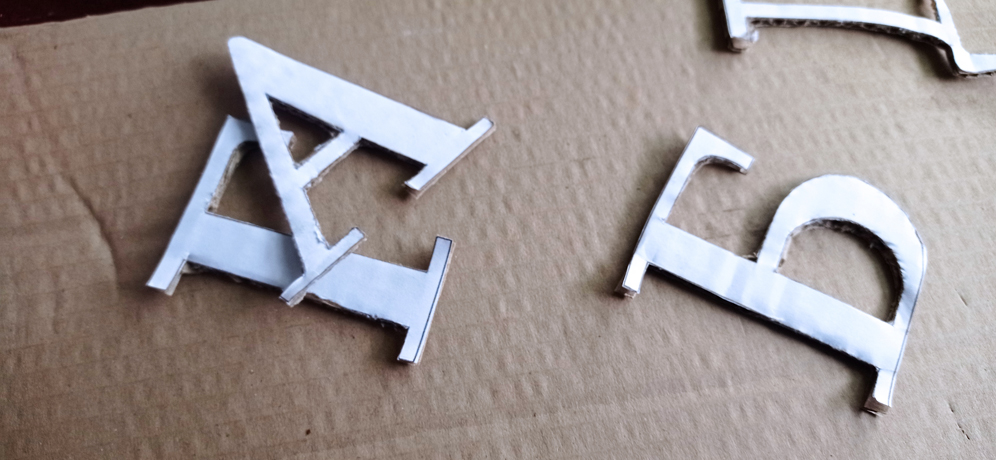a: (226, 34, 496, 309)
b: (616, 125, 926, 413)
g: (145, 110, 456, 365)
